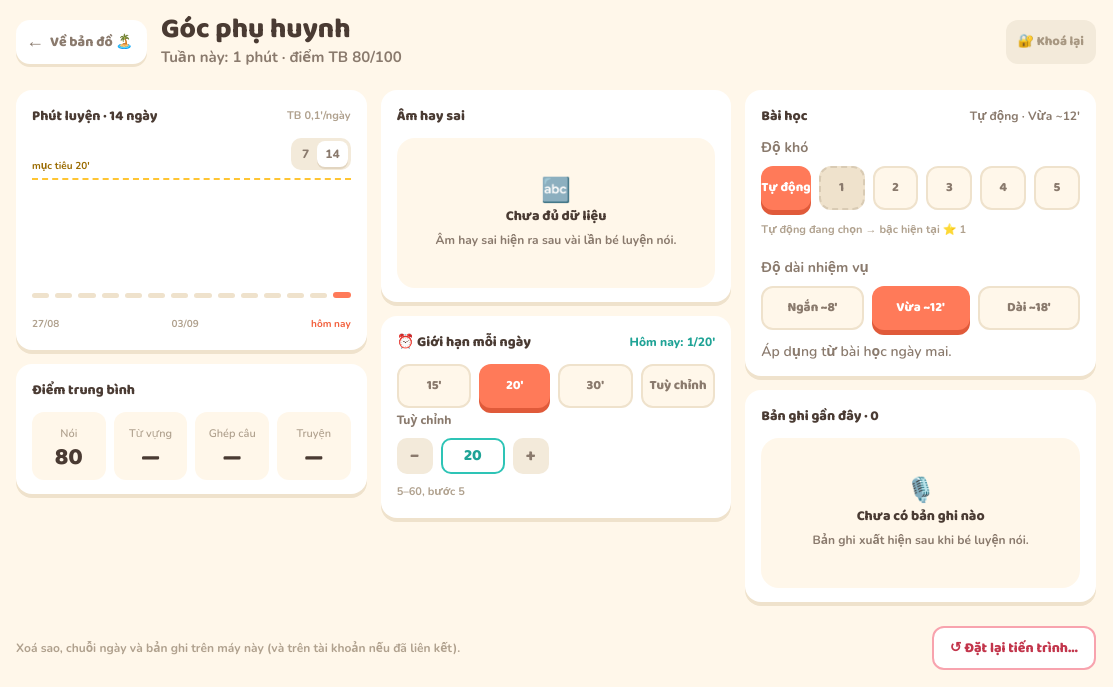
Scenario: ParentDashboard › persists a limit chip click
Click the button "30'" at (595, 386), box top-left (558, 364), bottom-right (633, 408)
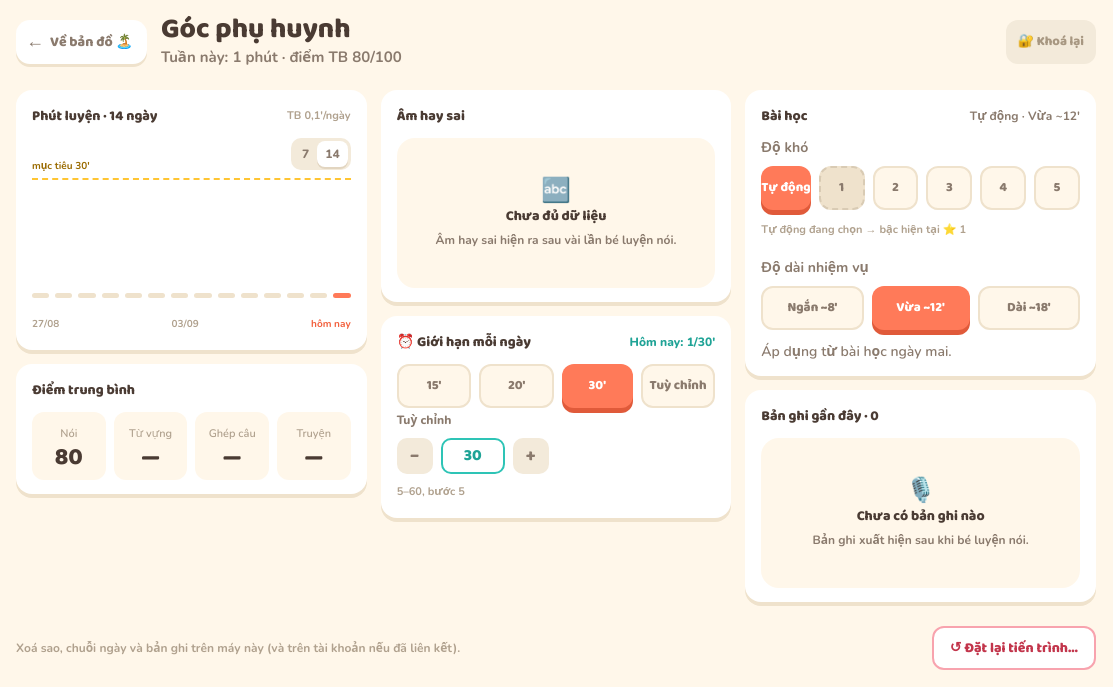
Expected: the text "mục tiêu 30'" is shown, top-left (32, 159), bottom-right (90, 173)
